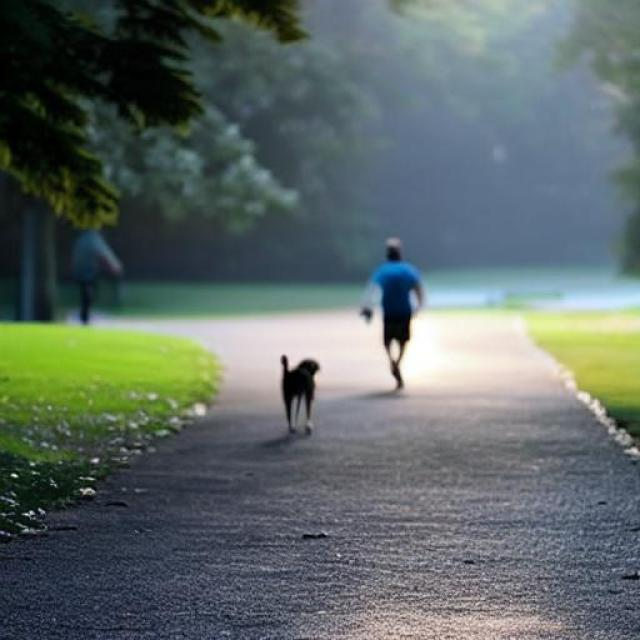Unleashed_Dog: (281, 314, 412, 436)
